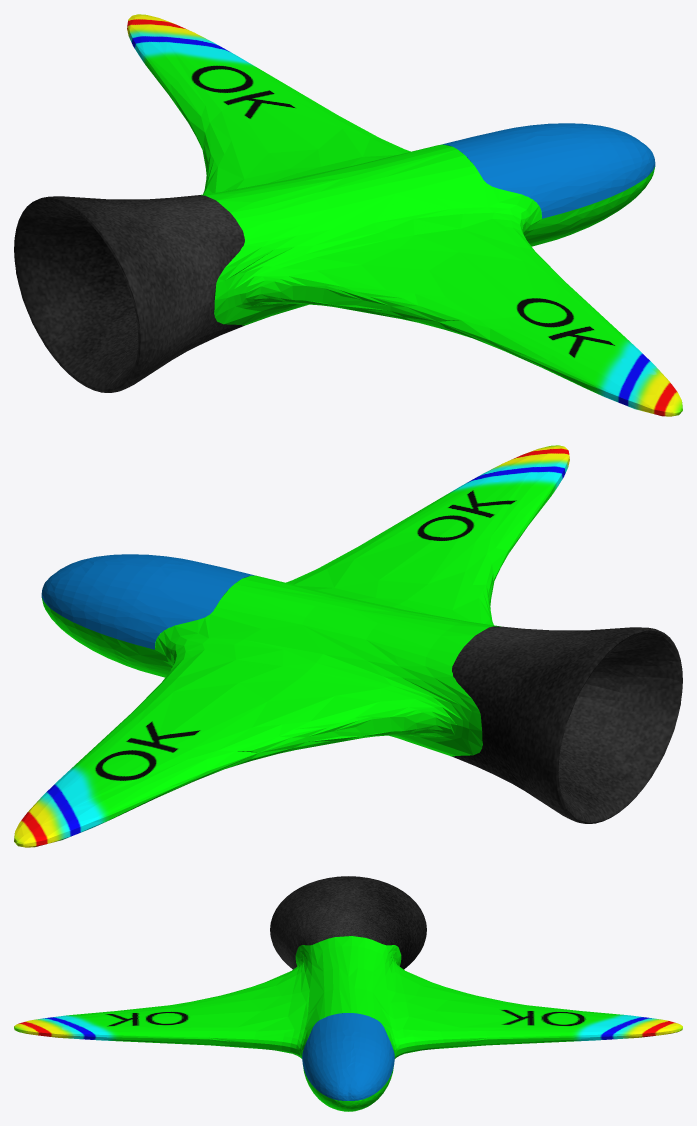
The picture shows the model from 3 angles, top to bottom: view 1: azimuth 30°, elevation 25°; view 2: azimuth 150°, elevation 25°; view 3: azimuth 270°, elevation 25°; orthographic projection. The views are drawn at different scales.
Parts seen in each view (by area): view 1: body_Untitled, engine_Untitled.002, glass_Untitled.001; view 2: body_Untitled, engine_Untitled.002, glass_Untitled.001; view 3: body_Untitled, engine_Untitled.002, glass_Untitled.001.
Boxes of the visible parts, x1,y1,x2,y2 form: body_Untitled: (127, 14, 682, 416); engine_Untitled.002: (14, 195, 244, 392); glass_Untitled.001: (442, 123, 655, 218); body_Untitled: (14, 445, 569, 847); engine_Untitled.002: (452, 626, 682, 823); glass_Untitled.001: (41, 554, 254, 649); body_Untitled: (14, 936, 682, 1111); engine_Untitled.002: (270, 876, 426, 969); glass_Untitled.001: (302, 1013, 394, 1100).
Bounding box in the file's own units: 3.24 × 0.9326 × 5.32.
